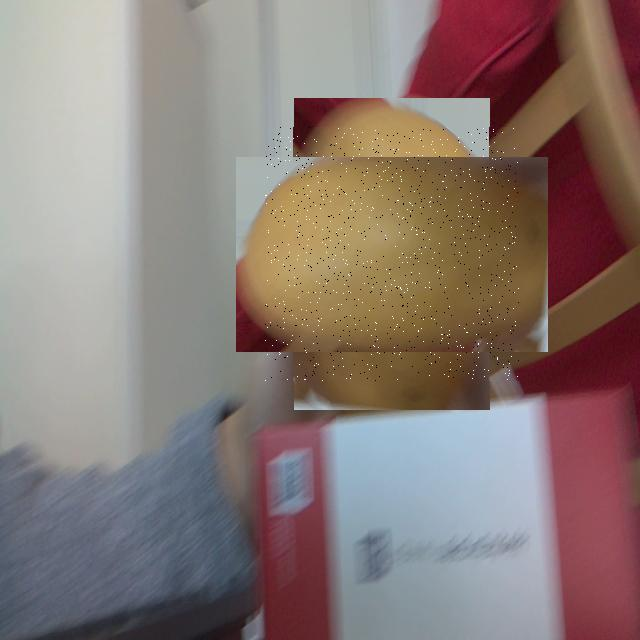pear: (266, 127, 520, 381)
